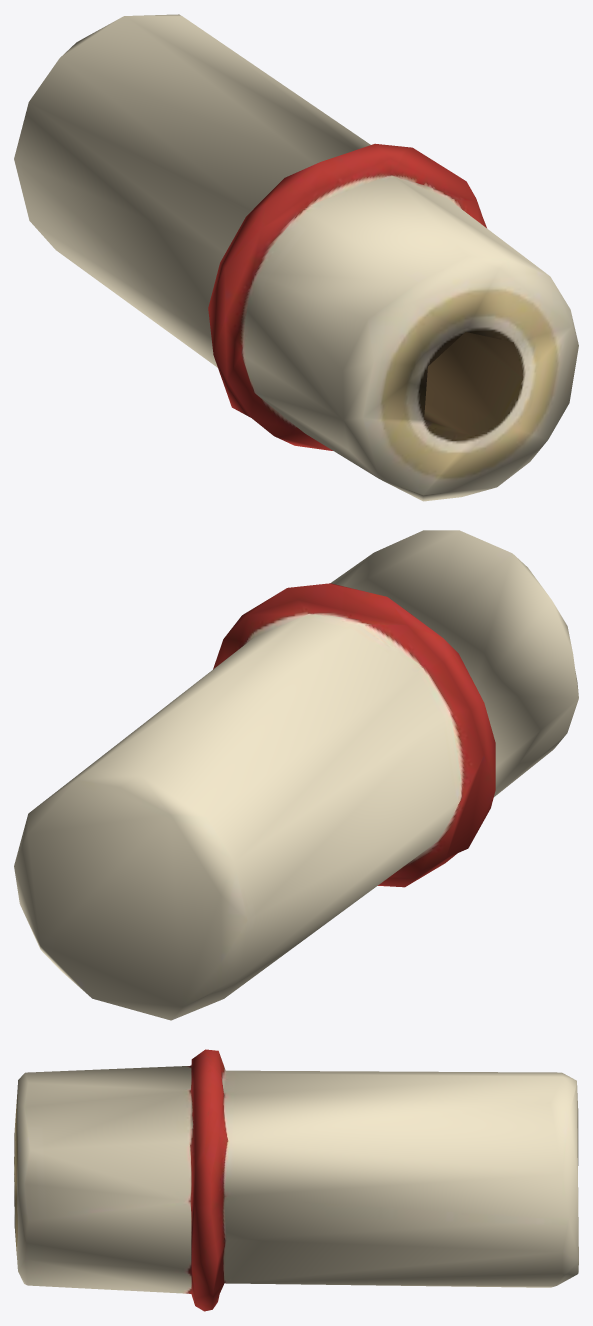
File: explorer-map.glb
3 renders of one model, top to bottom at view 1: azimuth 30°, elevation 25°; view 2: azimuth 150°, elevation 25°; view 3: azimuth 270°, elevation 25°, orthographic. The views are drawn at different scales.
Visible parts, largest first — view 1: map; view 2: map; view 3: map.
Part boxes in pixels (left/top/right/bottom): map: left=14, top=14, right=578, bottom=501; map: left=14, top=530, right=578, bottom=1020; map: left=14, top=1049, right=578, bottom=1311.
Bounding box in the file's own units: 0.0876 × 0.0876 × 0.1895.
1 material, 1 textured.
